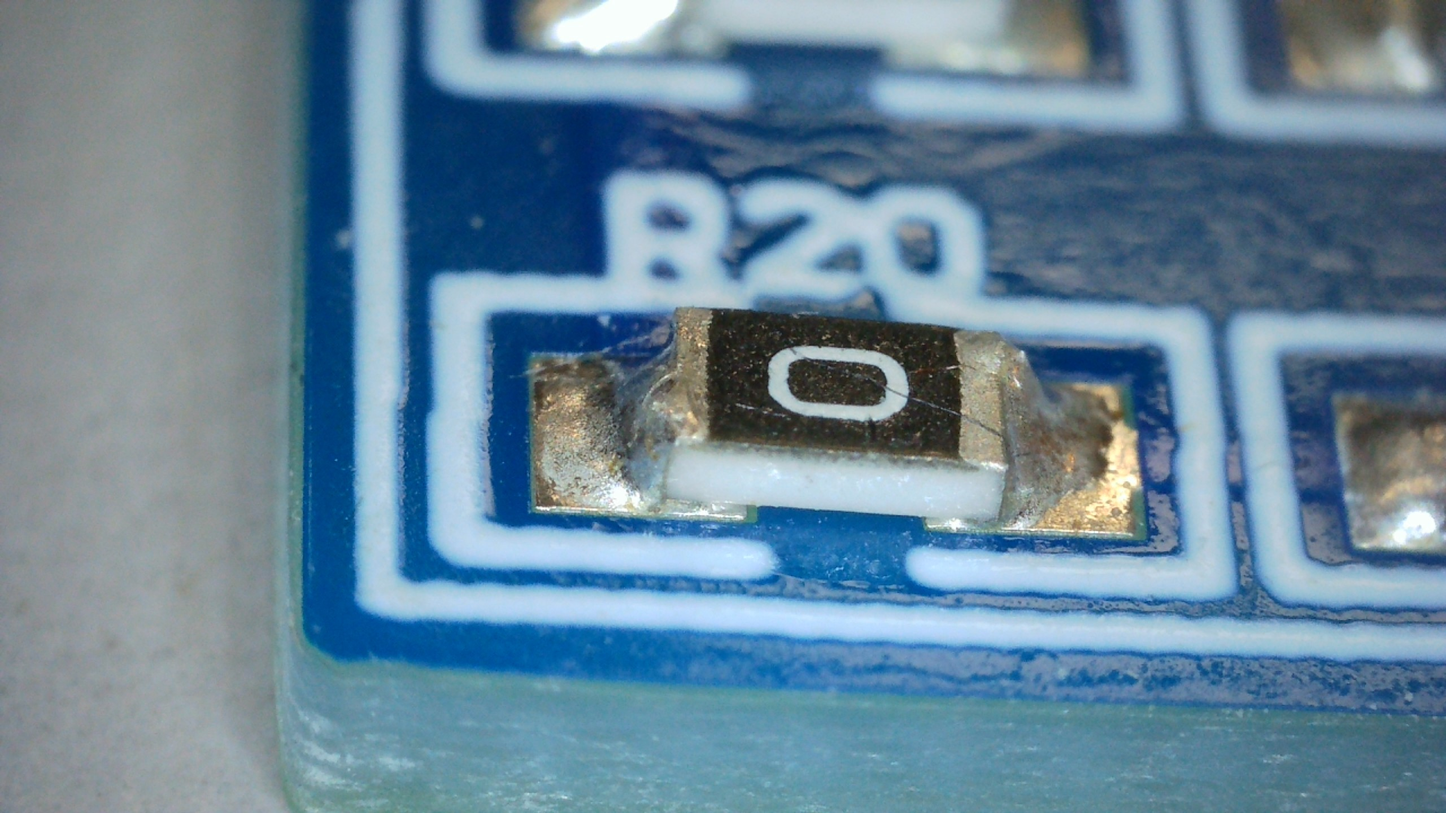NG: (539, 308, 710, 492), (959, 330, 1096, 528)
